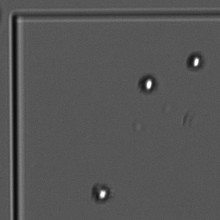Living Cell: (134, 69, 163, 97), (180, 46, 209, 74), (87, 178, 116, 206)
